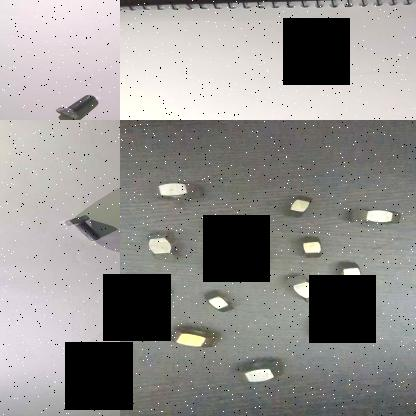Bolts: (58, 213, 110, 244), (51, 94, 100, 120)
NUTS: (197, 247, 271, 278), (141, 223, 183, 266), (150, 178, 212, 206), (159, 326, 231, 350), (276, 270, 324, 306), (228, 360, 283, 390), (121, 282, 176, 307), (196, 288, 240, 316), (346, 208, 410, 226), (306, 316, 345, 342), (276, 194, 318, 218), (332, 260, 368, 286), (198, 213, 238, 235), (298, 235, 326, 263)
